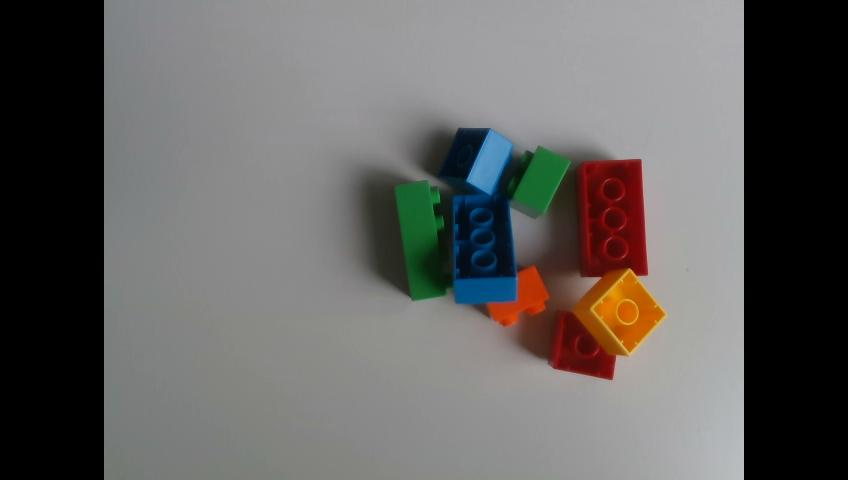2x2_blue: (438, 126, 515, 196)
2x2_green: (508, 146, 572, 222)
2x2_orange: (487, 264, 550, 329)
2x2_red: (548, 310, 617, 382)
2x2_yellow: (571, 269, 668, 356)
4x2_blue: (453, 195, 518, 306)
4x2_green: (395, 179, 454, 304)
4x2_red: (575, 160, 650, 278)
